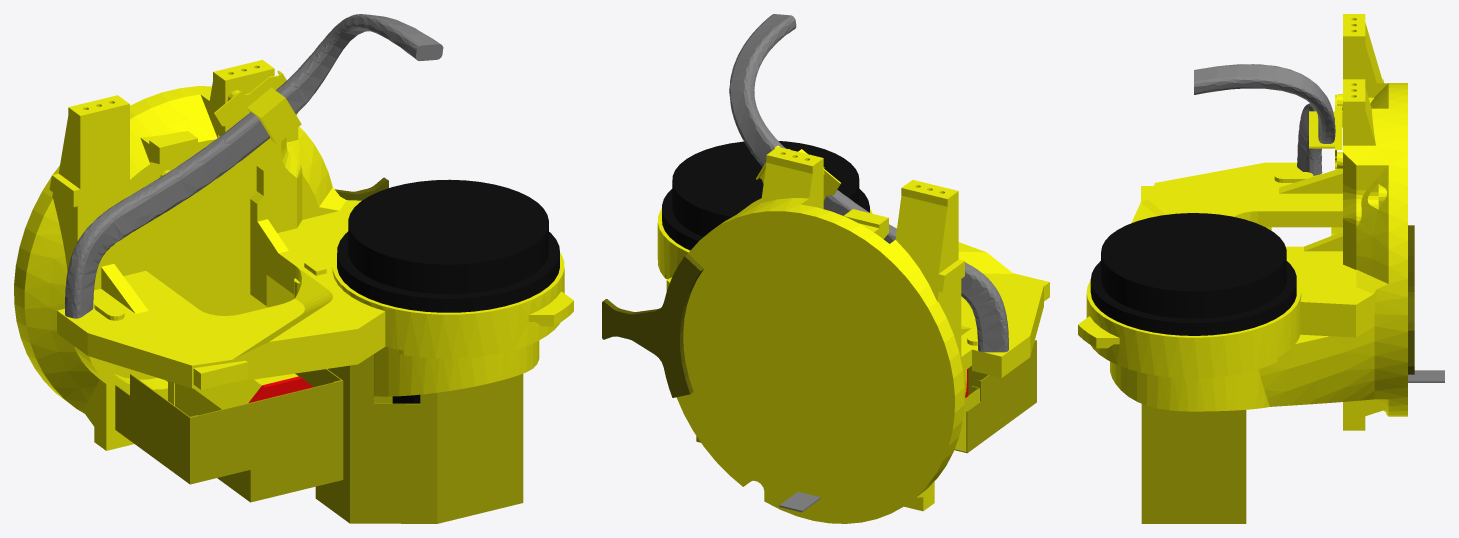
The picture shows the model from 3 angles, left to right: view 1: azimuth 30°, elevation 25°; view 2: azimuth 150°, elevation 25°; view 3: azimuth 270°, elevation 25°; orthographic projection. The views are drawn at different scales.
Parts seen in each view (by area): view 1: node; view 2: node; view 3: node.
Boxes of the visible parts, x1,y1,x2,y2 form: node: (14, 14, 573, 523); node: (602, 14, 1049, 523); node: (1078, 14, 1444, 523).
Bounding box in the file's own units: 812 × 841 × 660.
